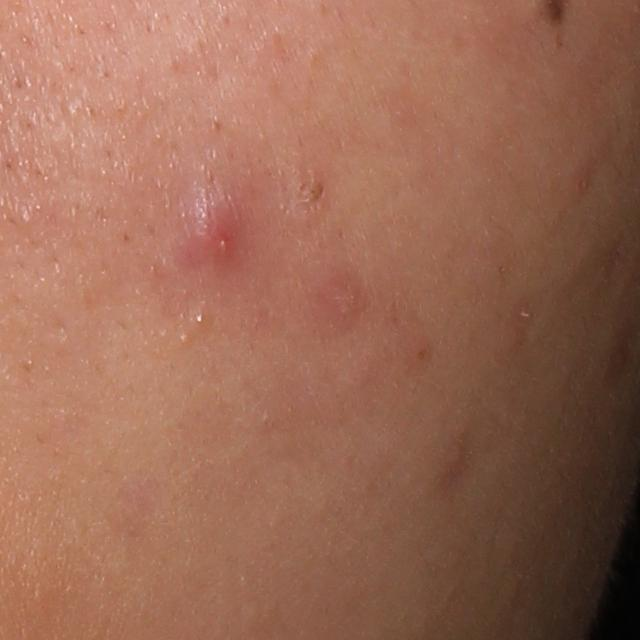comedo: (175, 330, 193, 348)
papule: (178, 175, 262, 279)
